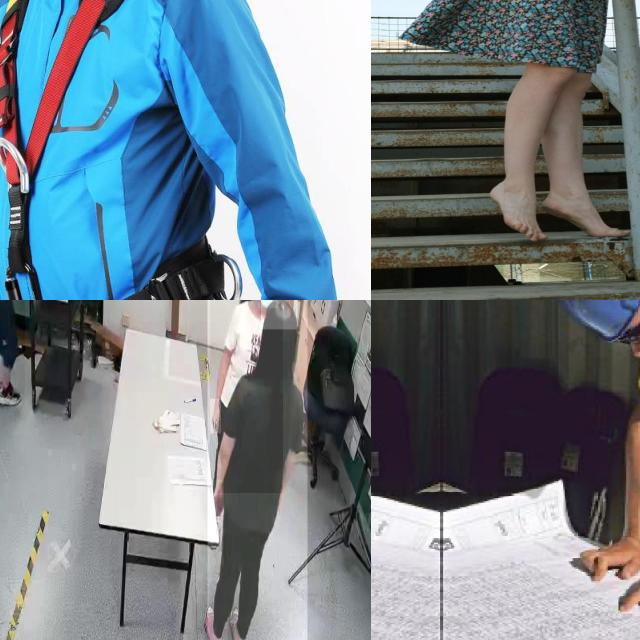Barefoots: (542, 193, 631, 237), (489, 181, 548, 242)
Harness: (0, 0, 232, 300)
hand_noglove: (584, 535, 640, 579), (212, 480, 224, 516), (210, 399, 222, 434)
head_nohelmet: (261, 300, 298, 330)
person: (207, 300, 308, 640), (210, 300, 283, 492)
shoes: (203, 598, 227, 640), (227, 600, 247, 640), (0, 379, 22, 411)
